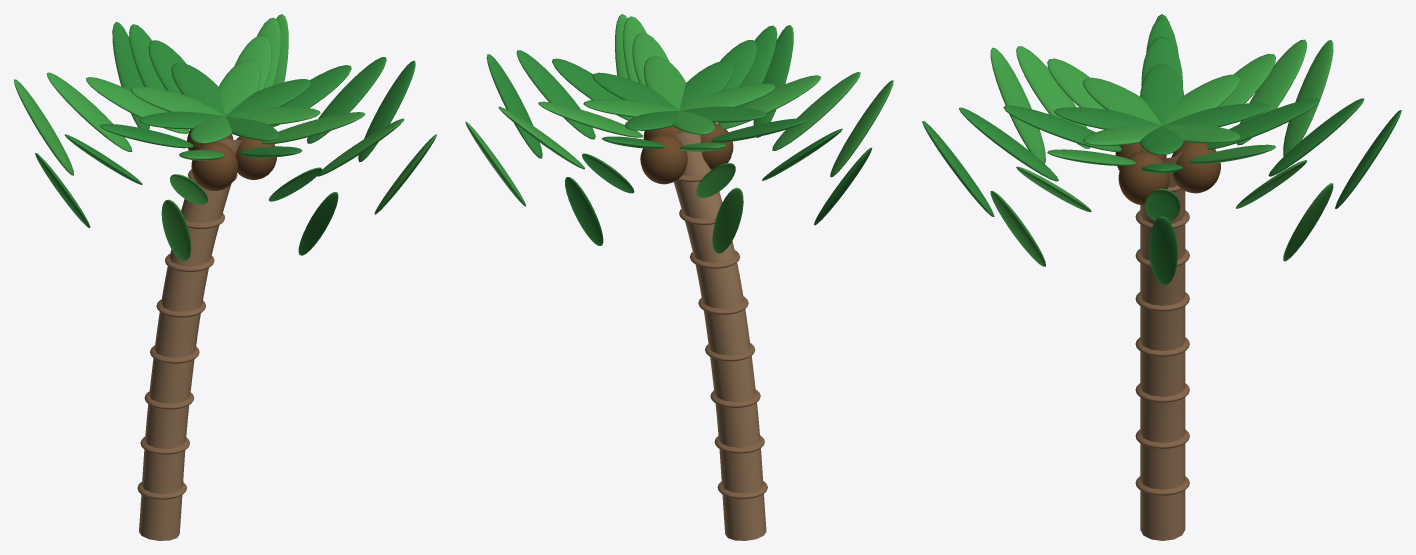
The model's file is tree_palm.glb.
3 renders of one model, left to right at view 1: azimuth 30°, elevation 25°; view 2: azimuth 150°, elevation 25°; view 3: azimuth 270°, elevation 25°, orthographic. The views are drawn at different scales.
Parts seen in each view (by area): view 1: Crown, Tree; view 2: Crown, Tree; view 3: Crown, Tree.
Part boxes in pixels (x1=…): Crown: x1=14, y1=14, x2=436, y2=261; Tree: x1=137, y1=138, x2=242, y2=540; Crown: x1=465, y1=14, x2=893, y2=253; Tree: x1=659, y1=131, x2=767, y2=540; Crown: x1=922, y1=14, x2=1401, y2=285; Tree: x1=1135, y1=144, x2=1189, y2=540.
Size of the model in its own units: 1.48 by 1.59 by 1.48.
